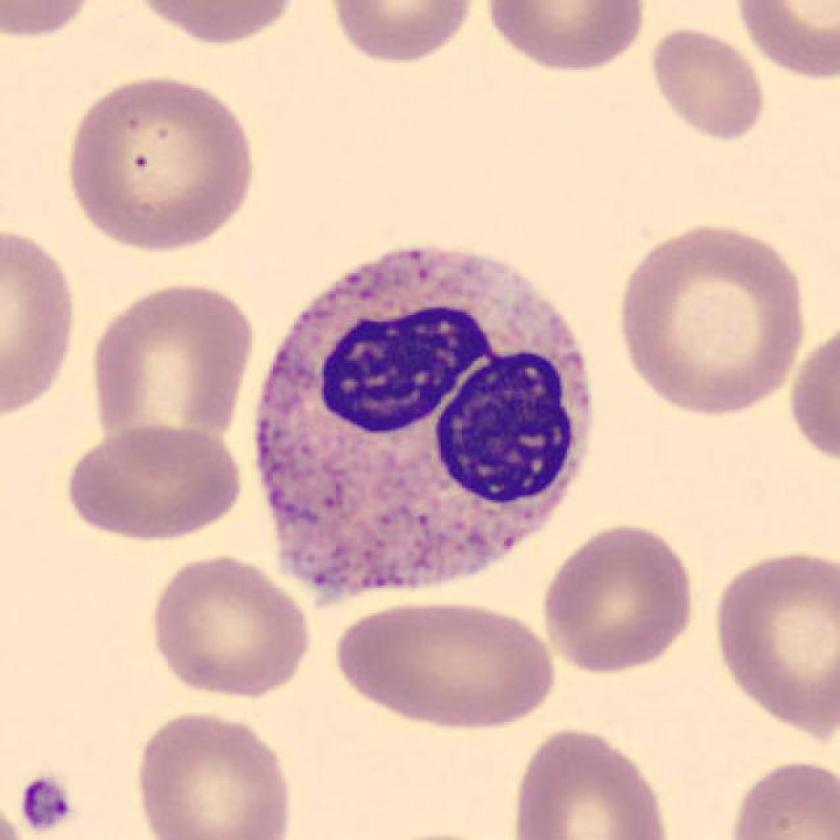neutrophil: (261, 249, 594, 598)
